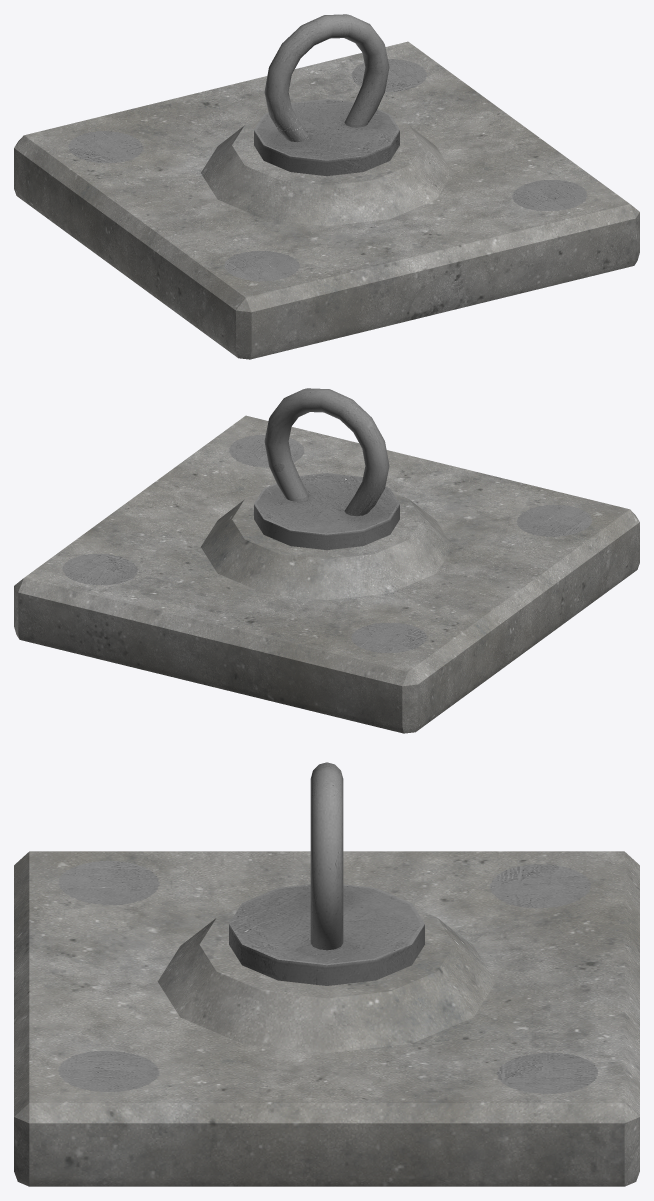
Rendered from soporte_bajo.fbx.
The picture shows the model from 3 angles, top to bottom: view 1: azimuth 30°, elevation 25°; view 2: azimuth 150°, elevation 25°; view 3: azimuth 270°, elevation 25°; orthographic projection. The views are drawn at different scales.
Visible parts, largest first — view 1: soporte_bajo; view 2: soporte_bajo; view 3: soporte_bajo.
Part boxes in pixels (x1=…): soporte_bajo: x1=14, y1=14, x2=639, y2=359; soporte_bajo: x1=14, y1=388, x2=639, y2=733; soporte_bajo: x1=14, y1=762, x2=639, y2=1186.
Size of the model in its own units: 107 by 54.49 by 107.
Materials: 1 (1 with a texture image).
